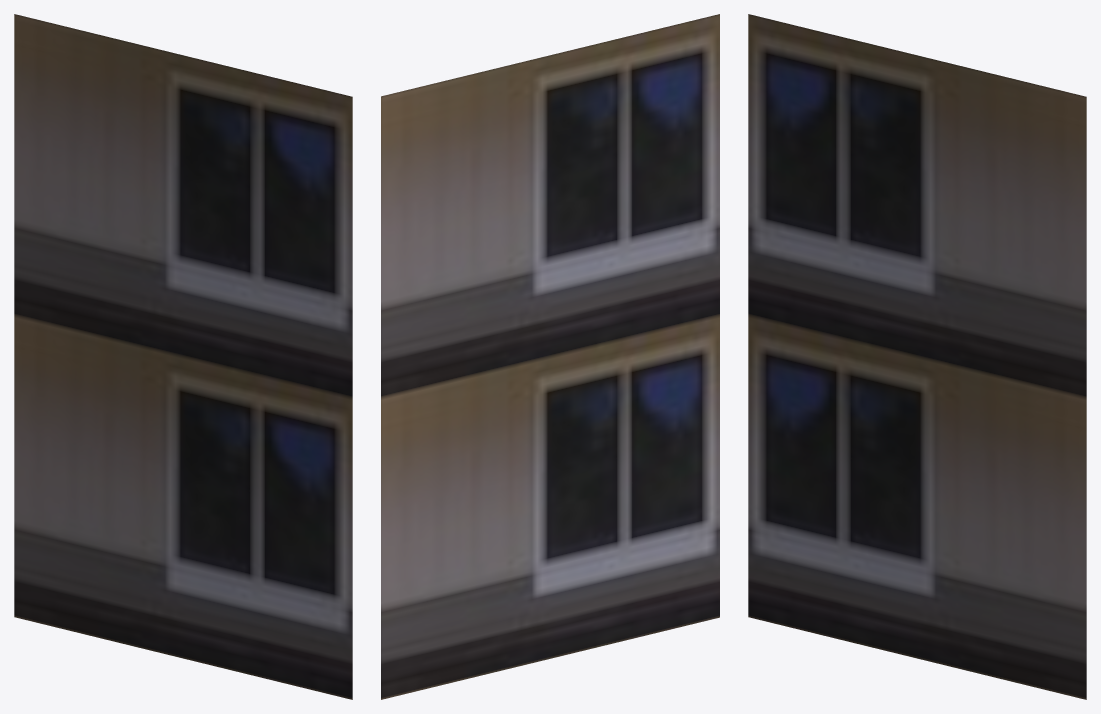
Rendered from ResTex__4429.fbx.
3 views of the same model, side by side, from view 1: azimuth 90°, elevation 25°; view 2: azimuth 150°, elevation 25°; view 3: azimuth 270°, elevation 25° (orthographic).
Visible parts, largest first — view 1: CityEngineMaterial_5_m; view 2: CityEngineMaterial_5_m; view 3: CityEngineMaterial_5_m.
Boxes of the visible parts, x1,y1,x2,y2 form: CityEngineMaterial_5_m: (14,14,352,699); CityEngineMaterial_5_m: (381,14,719,699); CityEngineMaterial_5_m: (748,14,1086,699).
Bounding box in the file's own units: 1.77 × 6 × 3.05.
1 material, 1 textured.
